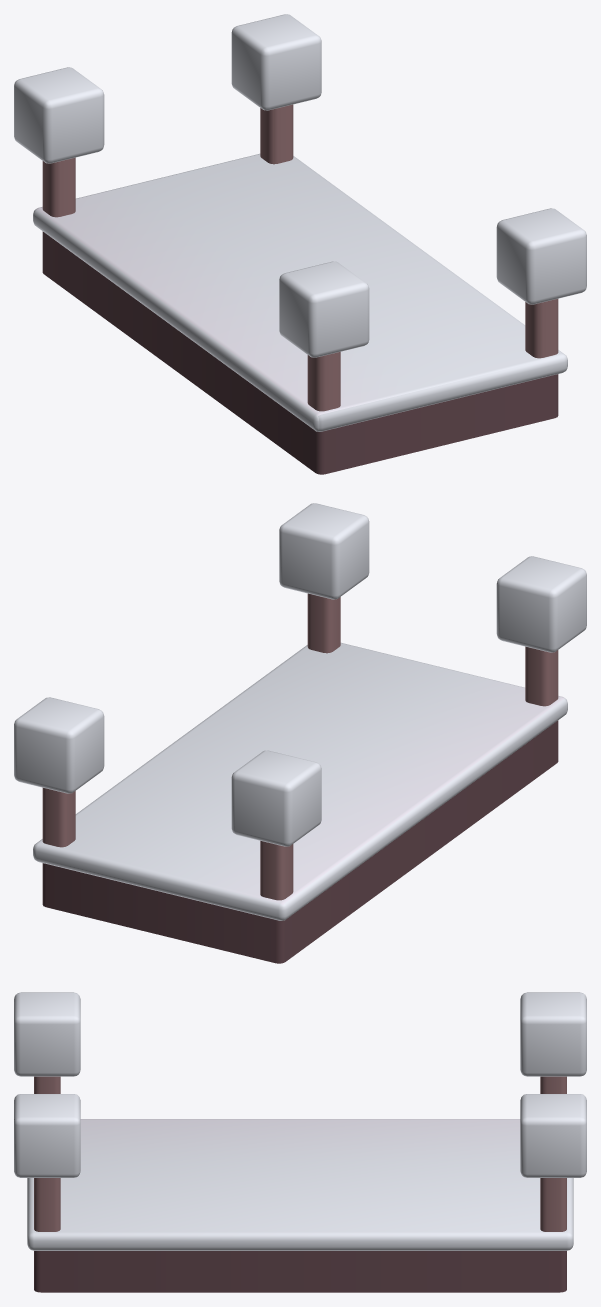
File: GroundWinter.fbx
3 renders of one model, top to bottom at view 1: azimuth 30°, elevation 25°; view 2: azimuth 150°, elevation 25°; view 3: azimuth 270°, elevation 25°, orthographic. The views are drawn at different scales.
Visible parts, largest first — view 1: GroundWinter; view 2: GroundWinter; view 3: GroundWinter.
Boxes of the visible parts, x1=… form: GroundWinter: x1=14, y1=14, x2=586, y2=474; GroundWinter: x1=14, y1=503, x2=586, y2=963; GroundWinter: x1=14, y1=992, x2=586, y2=1292.
Bounding box in the file's own units: 920 × 600 × 1720.
